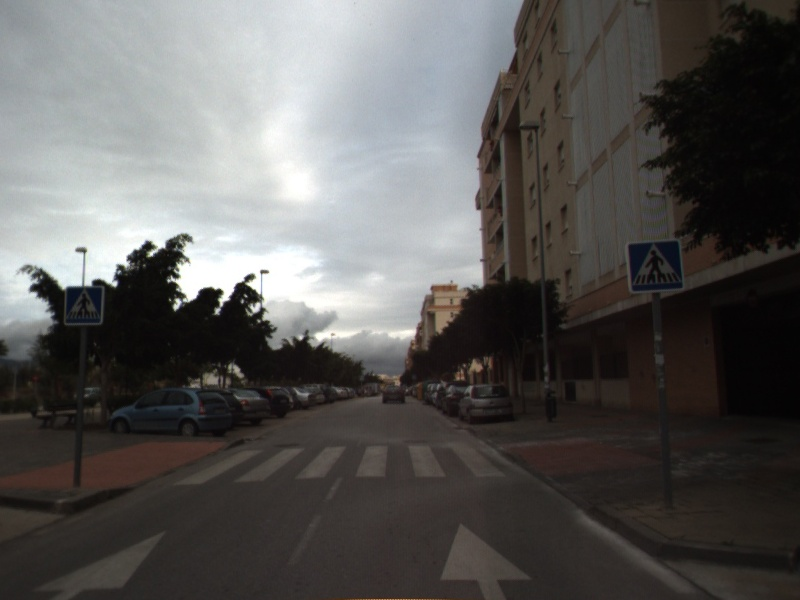STRAIGHT: (29, 525, 171, 600), (438, 520, 536, 600)
